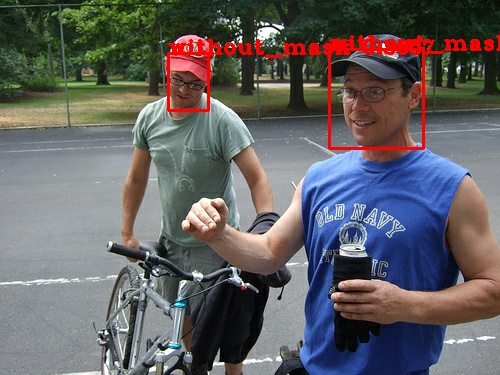without_mask: (339, 70, 421, 155), (161, 59, 210, 109)
